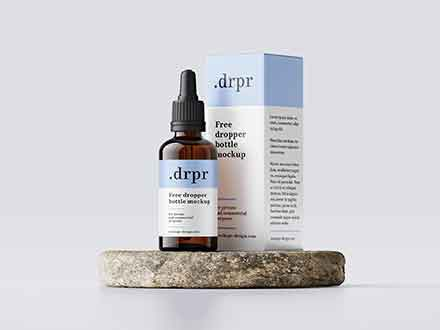Medicine: (207, 51, 306, 256), (155, 65, 228, 256)
